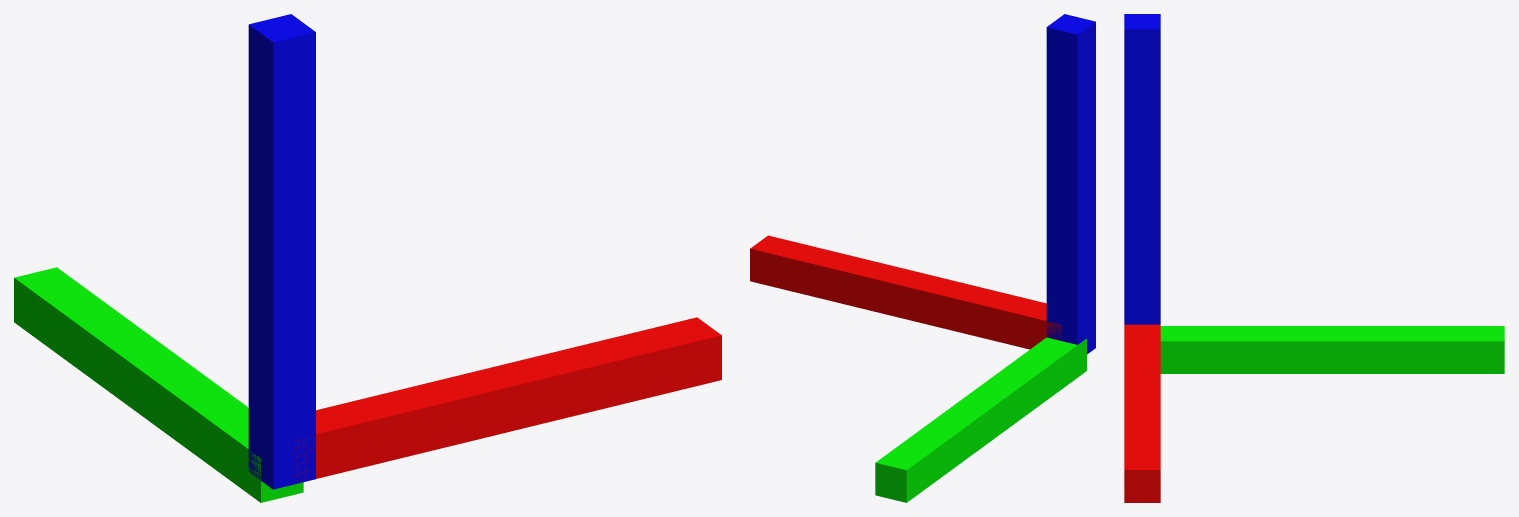
The model's file is axis.glb.
3 renders of one model, left to right at view 1: azimuth 30°, elevation 25°; view 2: azimuth 150°, elevation 25°; view 3: azimuth 270°, elevation 25°, orthographic. The views are drawn at different scales.
Visible parts, largest first — view 1: Z, X, Y; view 2: Z, X, Y; view 3: Y, Z, X.
Part boxes in pixels (<box>): Z: <box>248,14,315,489</box>; X: <box>294,317,721,483</box>; Y: <box>14,267,303,502</box>; Z: <box>1046,14,1095,354</box>; X: <box>750,235,1061,349</box>; Y: <box>875,337,1086,502</box>; Y: <box>1160,326,1504,373</box>; Z: <box>1124,14,1160,324</box>; X: <box>1124,324,1160,502</box>.
Size of the model in its own units: 2.1 by 2.1 by 2.1.
